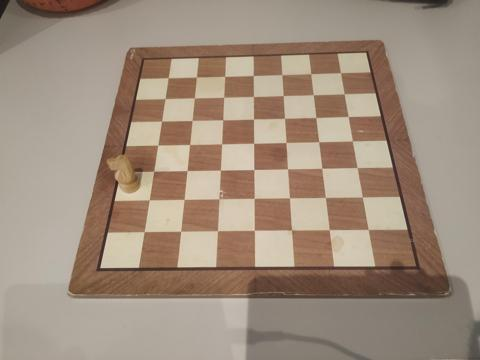xcorner: (137, 228, 147, 238), (173, 227, 183, 237), (210, 227, 220, 237), (247, 227, 257, 237), (285, 226, 295, 236), (324, 226, 334, 236), (364, 225, 374, 235), (142, 196, 152, 206), (176, 195, 186, 205), (211, 195, 221, 205), (247, 194, 257, 204), (283, 194, 293, 204), (320, 193, 330, 203), (358, 192, 368, 202), (147, 167, 157, 177), (213, 166, 223, 176), (247, 165, 257, 175), (281, 164, 291, 174), (317, 163, 327, 173), (353, 162, 363, 172), (151, 141, 161, 151), (182, 140, 192, 150), (214, 139, 224, 149), (247, 138, 257, 148), (280, 137, 290, 147), (314, 136, 324, 146), (348, 135, 358, 145), (155, 117, 165, 127), (185, 116, 195, 126), (247, 113, 257, 123), (278, 112, 288, 122), (311, 111, 321, 121), (343, 110, 353, 120), (158, 95, 168, 105), (187, 94, 197, 104), (217, 92, 227, 102), (247, 91, 257, 101), (277, 90, 287, 100), (308, 88, 318, 98), (339, 87, 349, 97), (189, 73, 199, 83), (218, 72, 228, 82), (247, 70, 257, 80), (276, 69, 286, 79), (305, 67, 315, 77), (336, 66, 346, 76), (179, 167, 189, 176), (216, 115, 225, 125), (162, 74, 171, 84)
